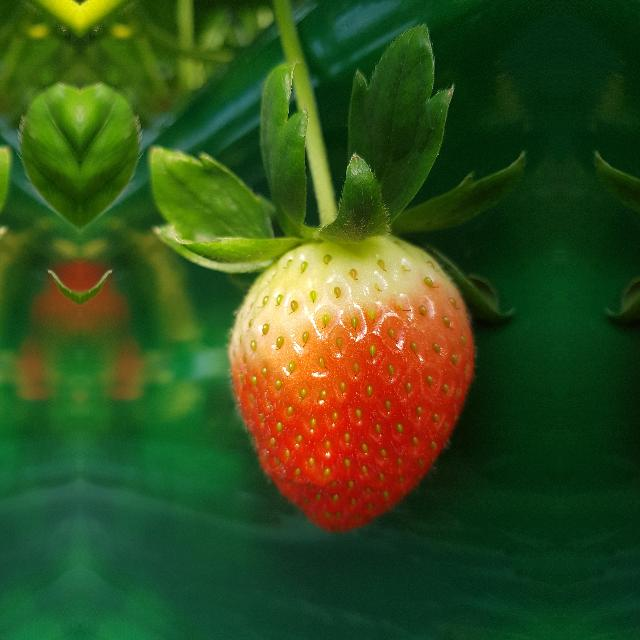Health_75: (226, 234, 477, 534)
